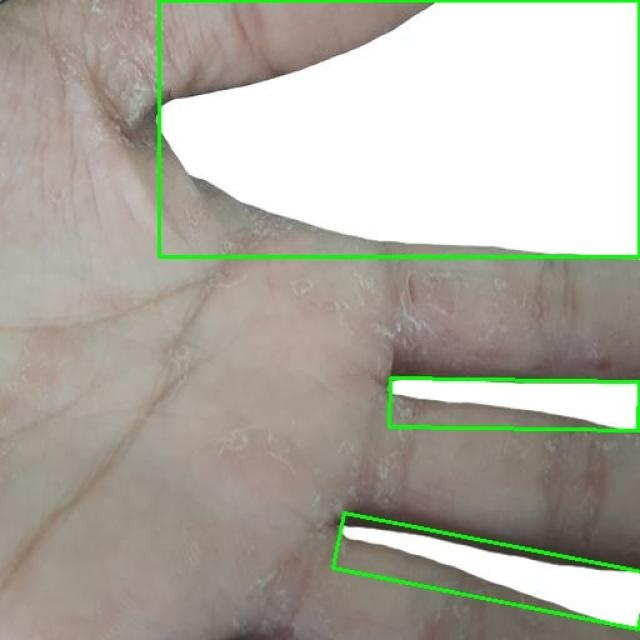Scabies: (159, 0, 639, 256), (333, 513, 640, 629), (389, 378, 639, 430)
